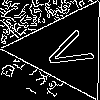V: (41, 24, 100, 76)
